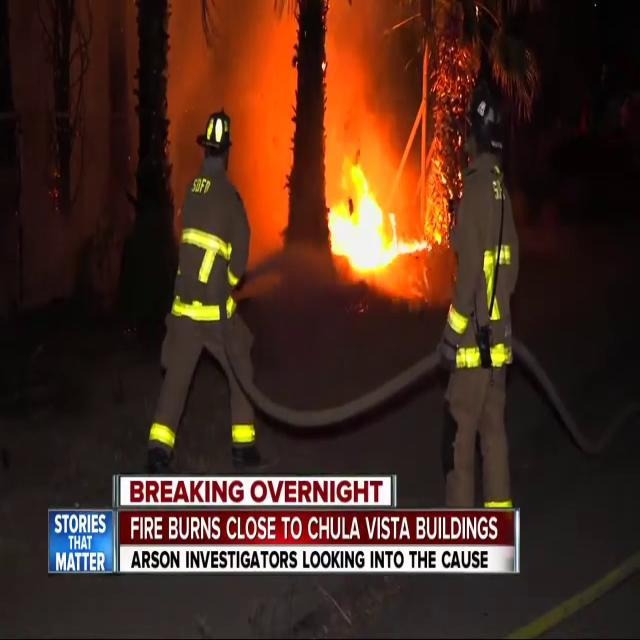Fire: (324, 150, 409, 282)
Smoke: (164, 1, 408, 219)
